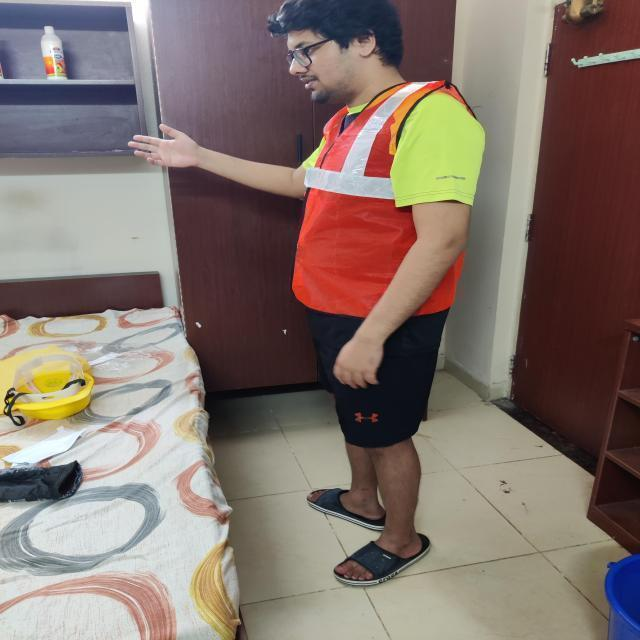no-helmet: (262, 0, 400, 66)
vest: (288, 80, 480, 319)
